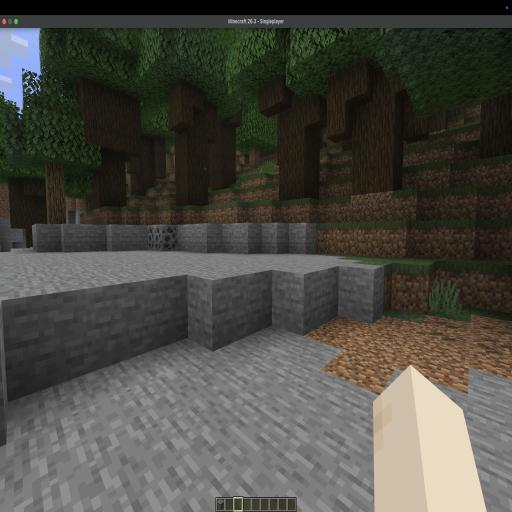coal ore: (147, 223, 180, 251)
